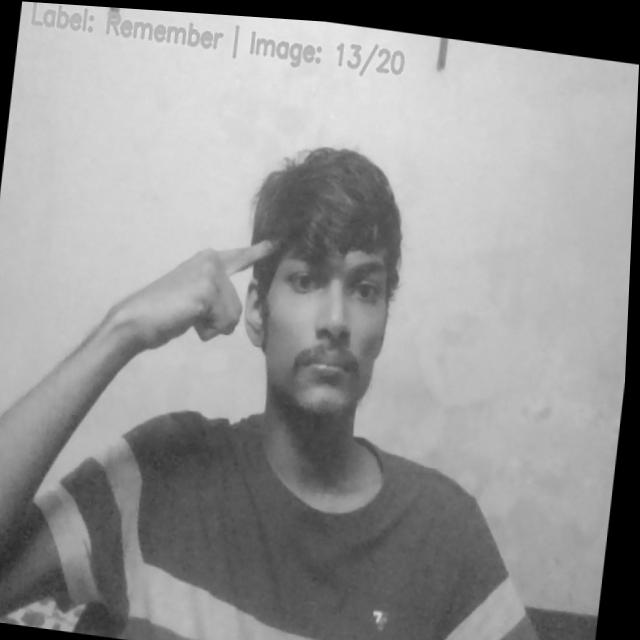Remember: (114, 210, 285, 364)
